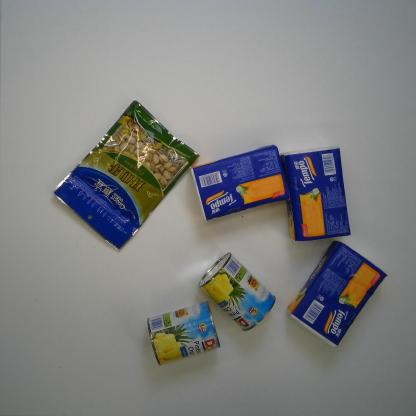Canned Food: (197, 252, 277, 332), (146, 300, 221, 366)
Dried Fruit: (50, 99, 201, 253)
Tissue: (286, 240, 388, 348), (189, 144, 290, 222), (279, 146, 351, 242)
